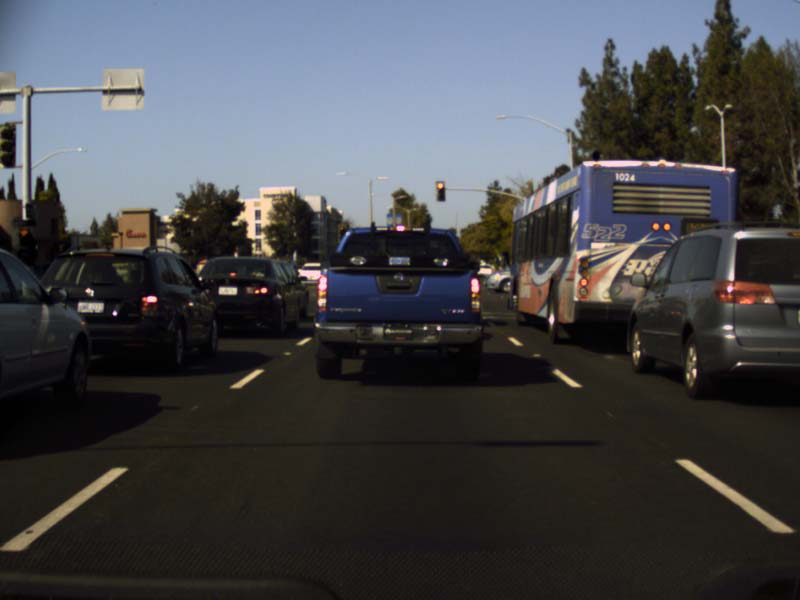Red: (17, 229, 30, 261), (435, 180, 445, 201)
